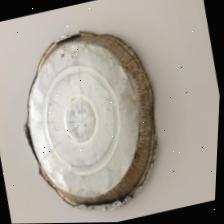metal: (0, 6, 184, 224)
